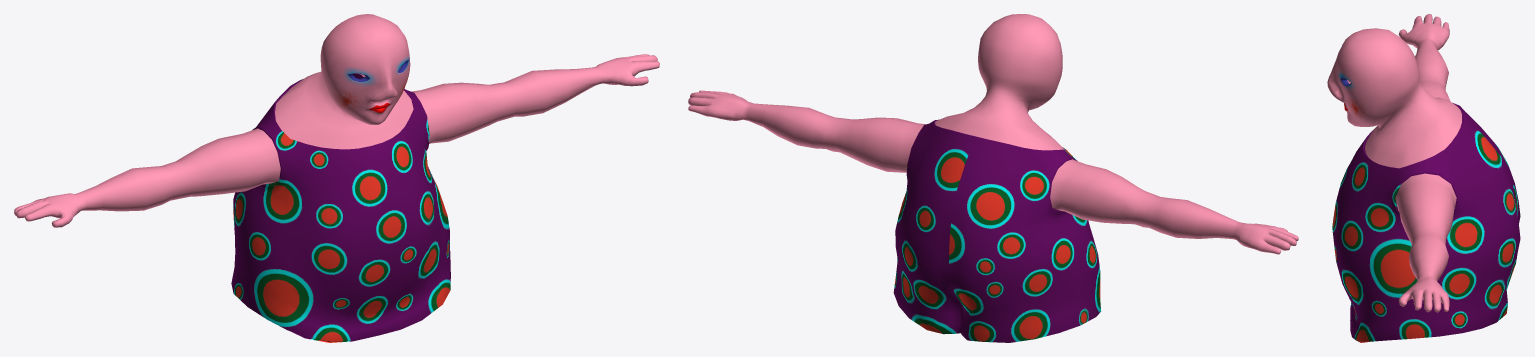
File: dee_torso.fbx
3 renders of one model, left to right at view 1: azimuth 30°, elevation 25°; view 2: azimuth 150°, elevation 25°; view 3: azimuth 270°, elevation 25°, orthographic. The views are drawn at different scales.
Parts seen in each view (by area): view 1: body1; view 2: body1; view 3: body1.
Part boxes in pixels (bbox=[...]): body1: bbox=[14, 14, 659, 342]; body1: bbox=[688, 14, 1298, 342]; body1: bbox=[1327, 14, 1520, 342].
Size of the model in its own units: 194 by 88.94 by 53.8.
Materials: 1 (1 with a texture image).
